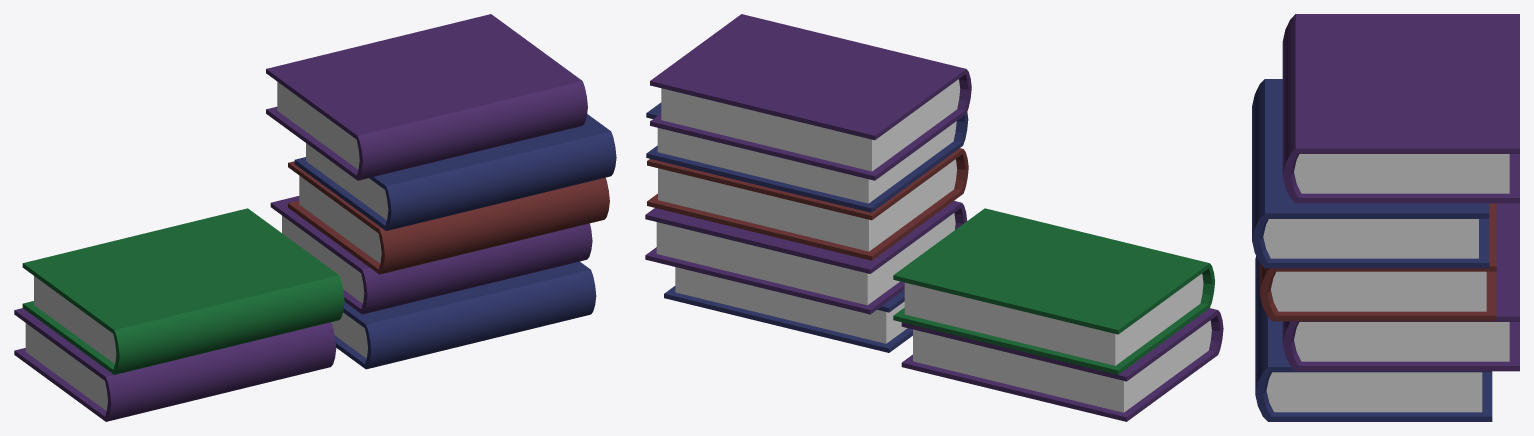
Rendered from LivreGroupe1.fbx.
3 views of the same model, side by side, from view 1: azimuth 30°, elevation 25°; view 2: azimuth 150°, elevation 25°; view 3: azimuth 270°, elevation 25° (orthographic). The views are drawn at different scales.
Parts seen in each view (by area): view 1: LivreGroupe1; view 2: LivreGroupe1; view 3: LivreGroupe1.
Part boxes in pixels (x1,y1,x2,y2): LivreGroupe1: [14, 14, 616, 421]; LivreGroupe1: [645, 14, 1223, 421]; LivreGroupe1: [1252, 14, 1519, 421].
Bounding box in the file's own units: 59.78 × 26.04 × 22.98.
